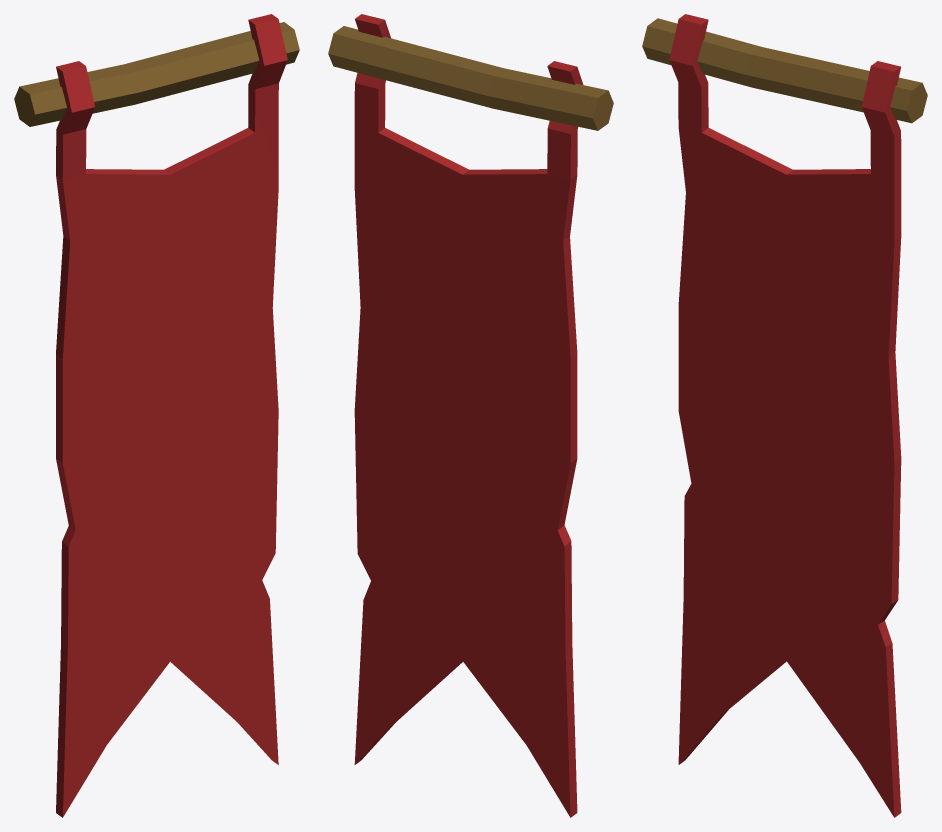
Rendered from FlagRed.fbx.
3 renders of one model, left to right at view 1: azimuth 30°, elevation 25°; view 2: azimuth 150°, elevation 25°; view 3: azimuth 330°, elevation 25°, orthographic.
Visible parts, largest first — view 1: SM_Prop_Banner_01; view 2: SM_Prop_Banner_01; view 3: SM_Prop_Banner_01.
Part boxes in pixels (x1,y1,x2,y2): SM_Prop_Banner_01: (14,14,299,817); SM_Prop_Banner_01: (328,14,613,817); SM_Prop_Banner_01: (642,14,927,817).
Bounding box in the file's own units: 120 × 323 × 20.26.
